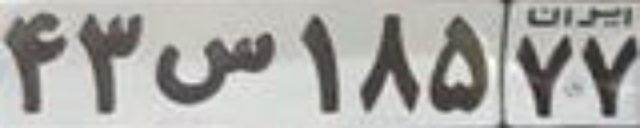1: (301, 15, 340, 113)
3: (77, 13, 141, 113)
4: (3, 11, 63, 114)
5: (427, 12, 486, 113)
7: (511, 31, 574, 116), (583, 31, 637, 117)
8: (356, 13, 418, 113)
sin: (156, 31, 277, 106)
